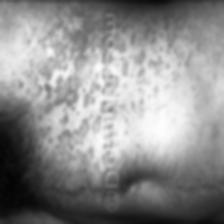Non-Cancerous Skin Condition: (41, 0, 100, 168), (122, 6, 194, 99)
